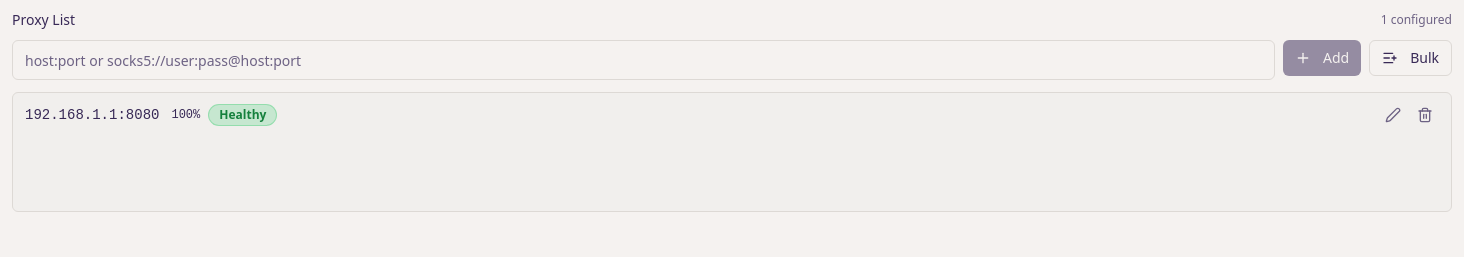
Test: ProxyList › add proxy validation › rejects duplicate proxy
In the field with placeholder "host:port or socks5://user:pass@host:port": (644,60) top-left (12, 40), bottom-right (1275, 80), type "192.168.1.1:8080"
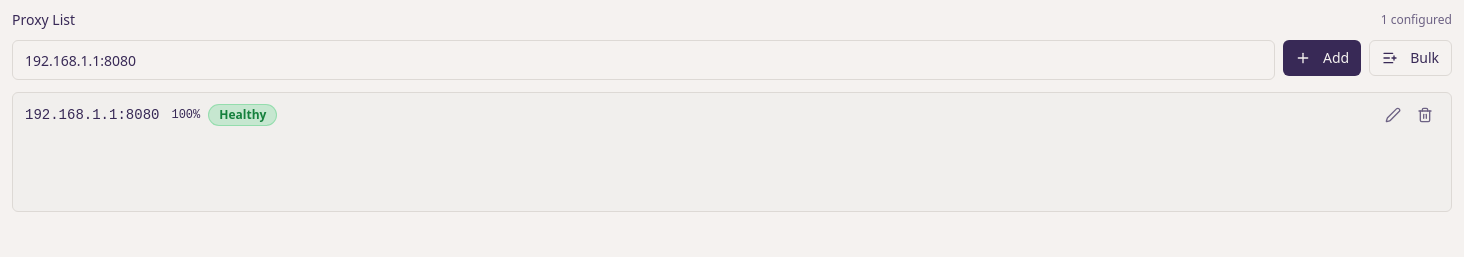
Click the button "Add": (1322,58) top-left (1283, 40), bottom-right (1361, 76)
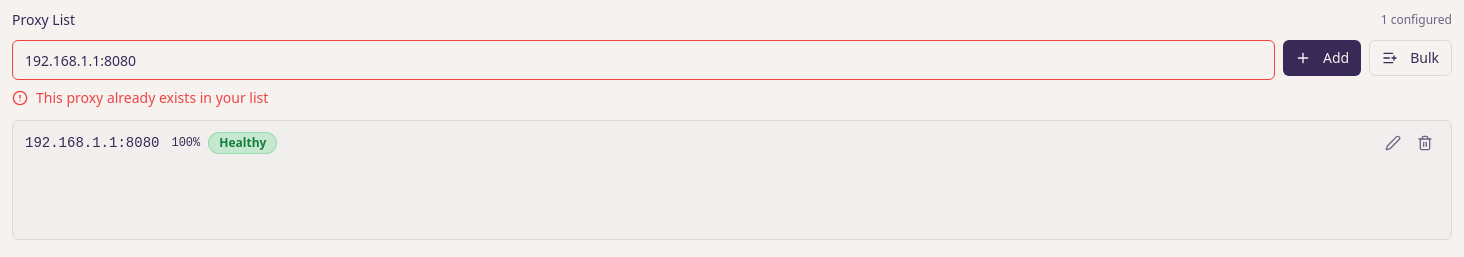
Expected: the text "This proxy already exists in your list" is shown, top-left (12, 88), bottom-right (268, 107)
